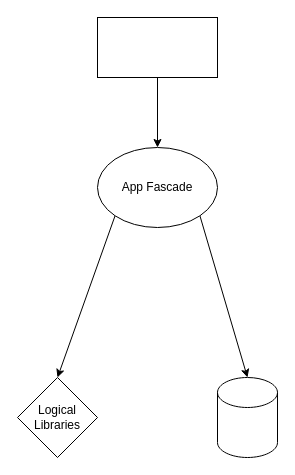
Some shapes in this 295 by 475 pixel diagram are drawn without their labels. Here are the shapes that lost their labels. From the top down, the centre of each, then its label:
point (157, 47): API Handlers
point (247, 417): Data Services
